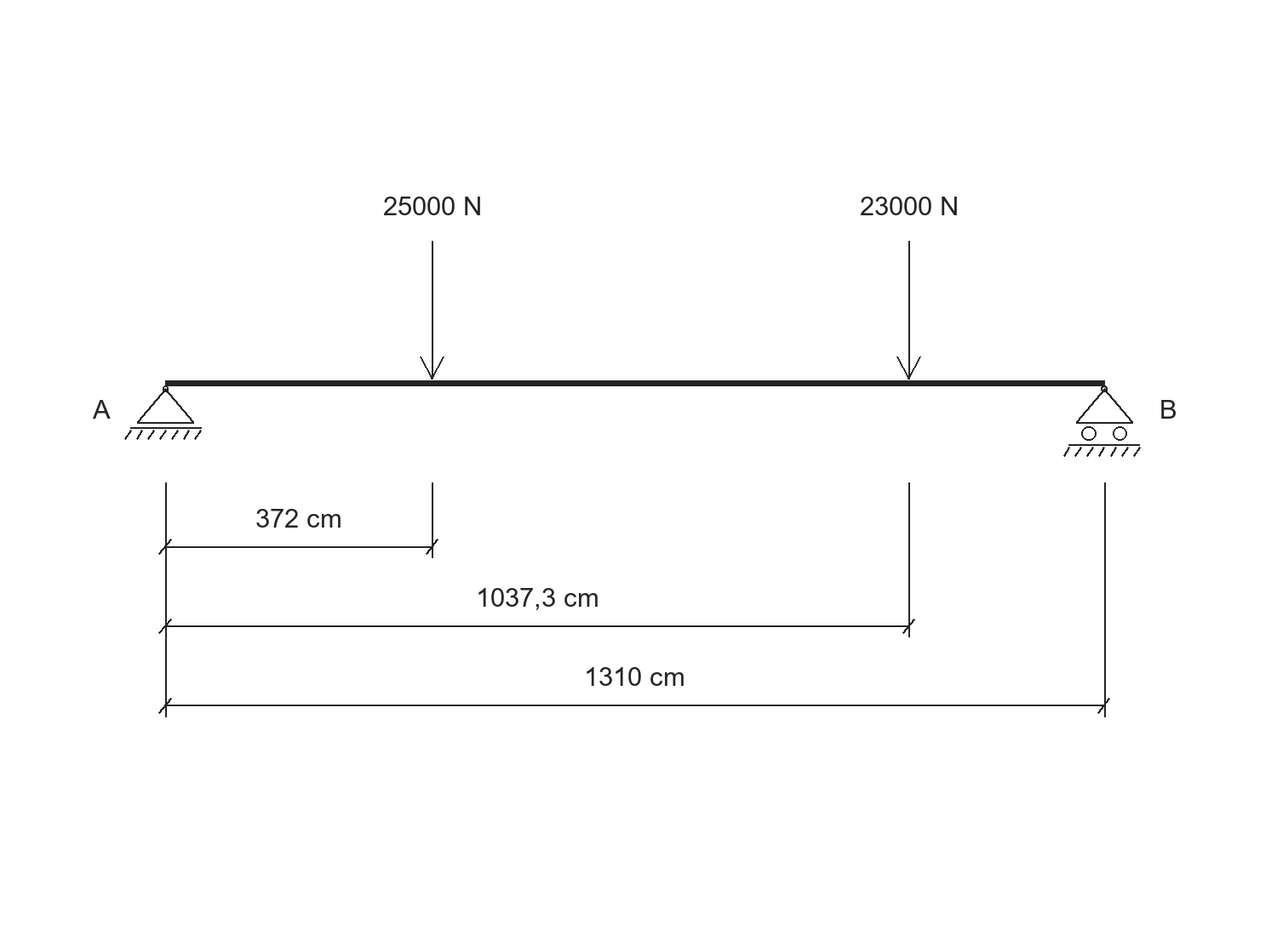pin_support: (124, 385, 202, 440)
point_load: (896, 241, 921, 380), (420, 241, 444, 380)
roller_support: (1063, 385, 1141, 457)
